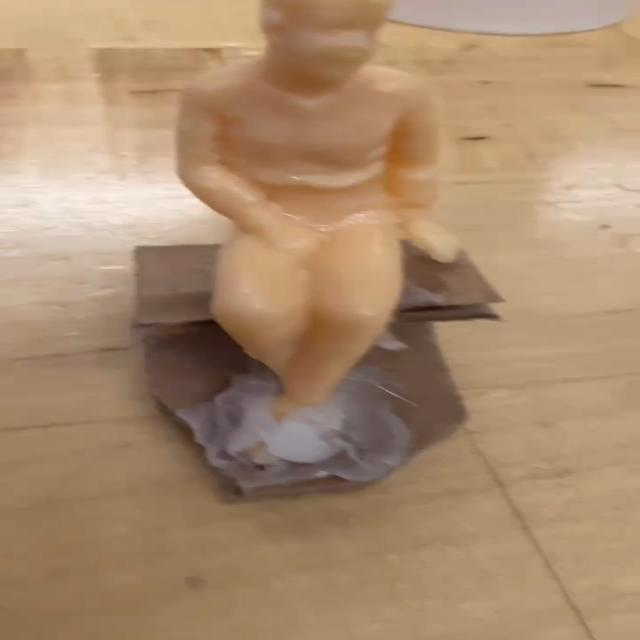Unauthorized: (121, 6, 499, 456)
